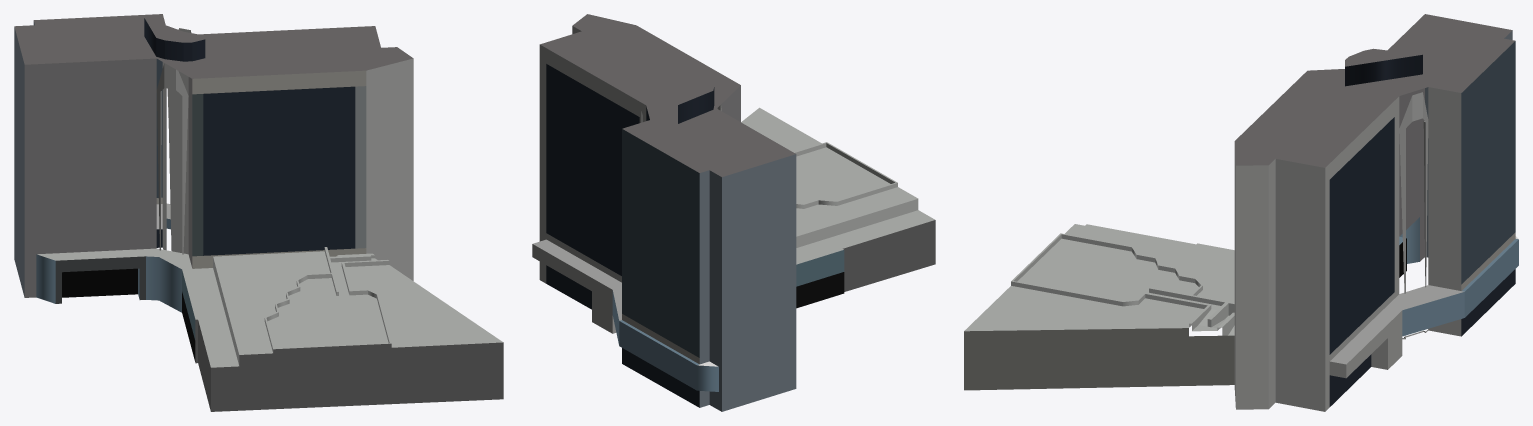
The model's file is chattanooga-marriott-hotel-at-the-convention-cen.glb.
3 views of the same model, side by side, from view 1: azimuth 30°, elevation 25°; view 2: azimuth 150°, elevation 25°; view 3: azimuth 270°, elevation 25° (orthographic). The views are drawn at different scales.
Visible parts, largest first — view 1: LOD0; view 2: LOD0; view 3: LOD0.
Boxes of the visible parts, box(x1,y1,x2,y2) form: LOD0: box(14, 14, 503, 411); LOD0: box(532, 14, 935, 411); LOD0: box(964, 14, 1518, 411).
Size of what is drawn, in the model's own units: 61.5 by 49.37 by 93.68.
2 materials, 2 textured.
